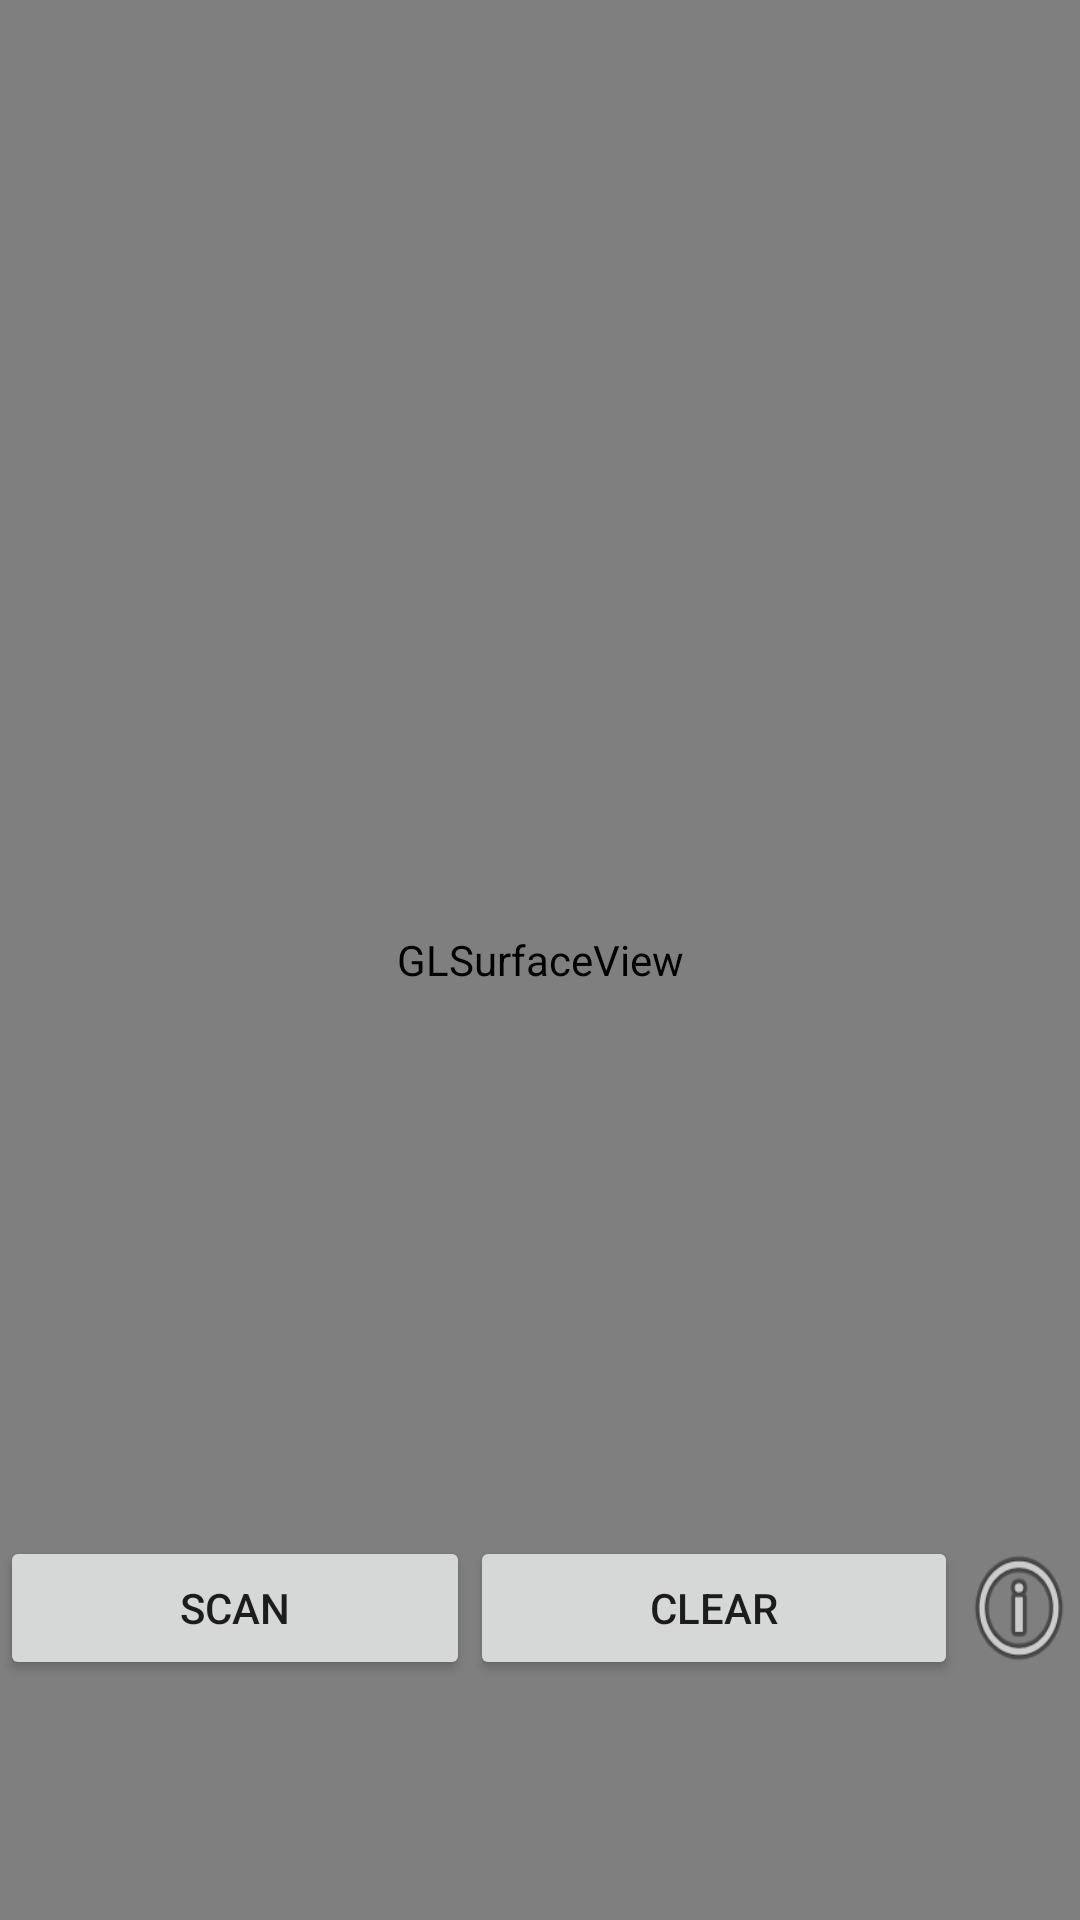

Where to tap for icons on this 1080*1920 app screen, as [x,y]:
info details: [1019,1608]
